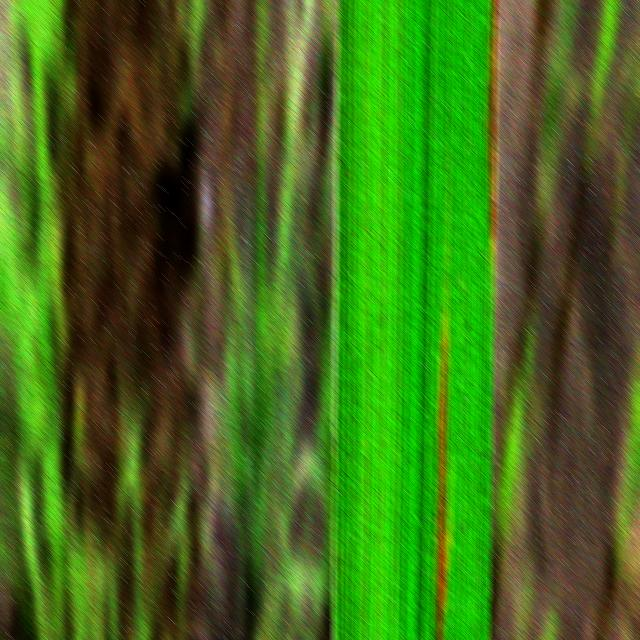NBS: (434, 312, 451, 640), (488, 0, 497, 252)
